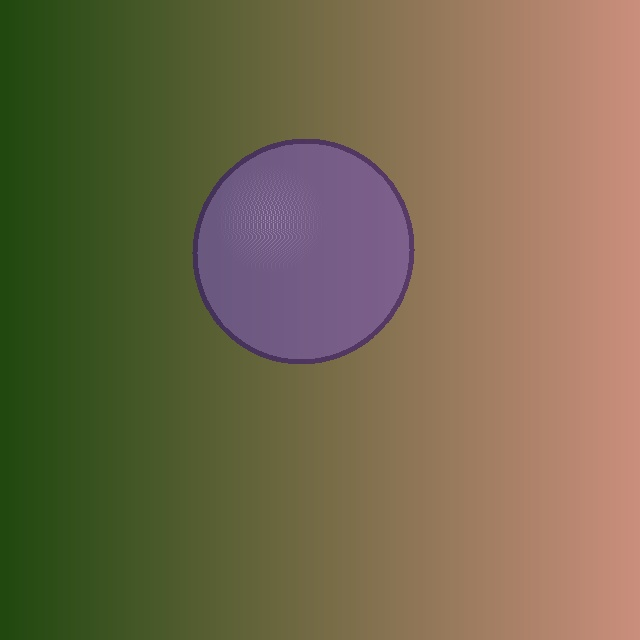lens: (195, 141, 411, 361)
